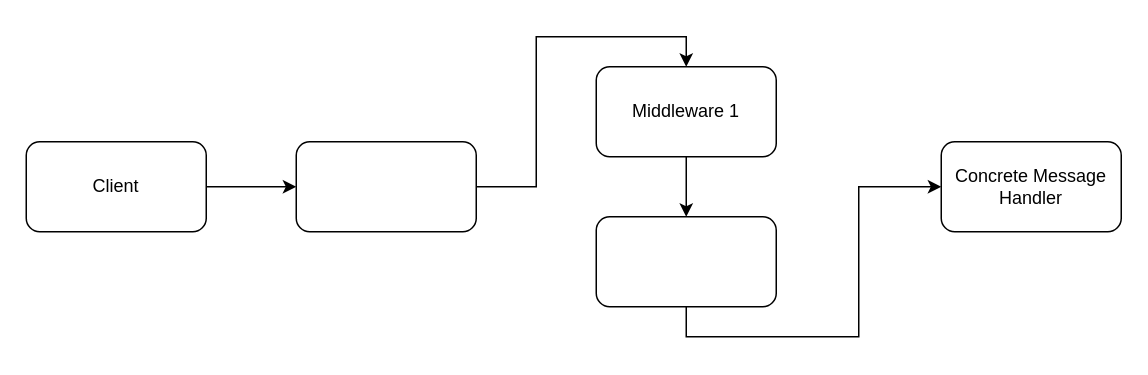
The diagram is 1148 pixels wide and 375 high, and some of its shapes have lost their labels. The centre of each missing label's shape, as x and y in pixels:
Mediator: (385,186)
Middleware 2: (685,261)
